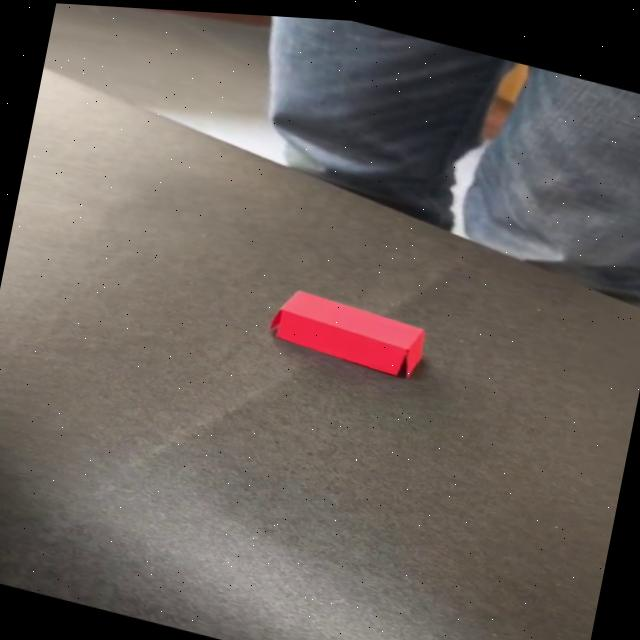red block: (264, 283, 428, 382)
